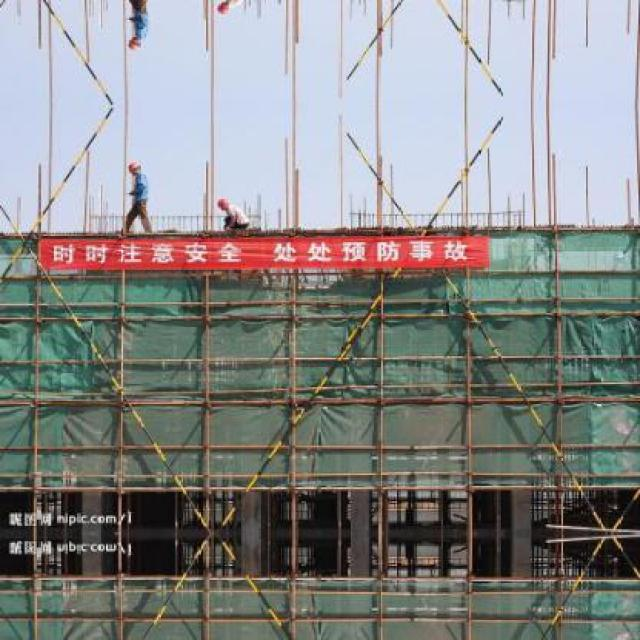helmet: (215, 196, 231, 210), (215, 2, 231, 16), (127, 160, 141, 175), (127, 37, 141, 52)
